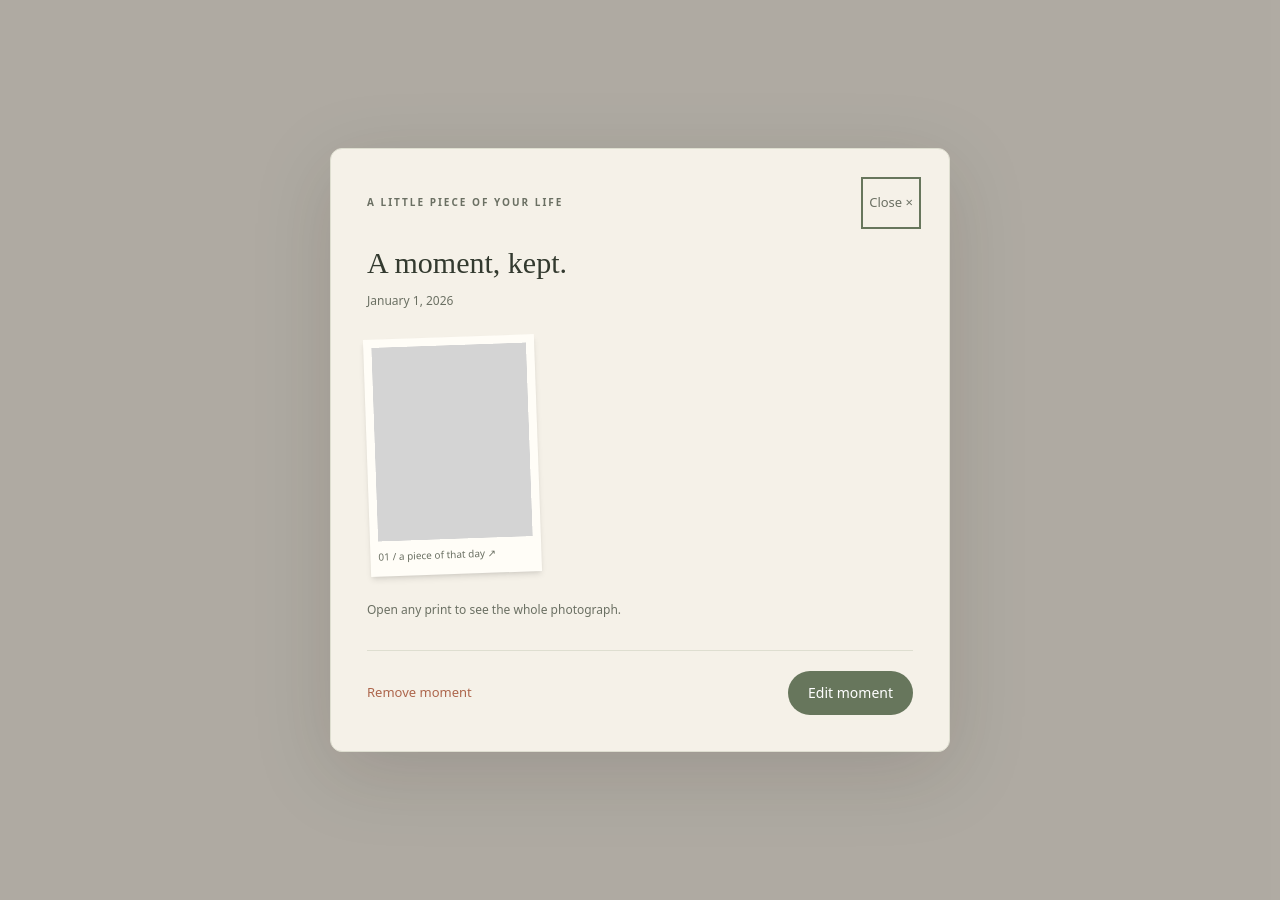
it: protects photo changes and refuses to save an emptied photo-only moment
Click the button "Edit moment". click: (850, 693)
box: [788,671,913,715]
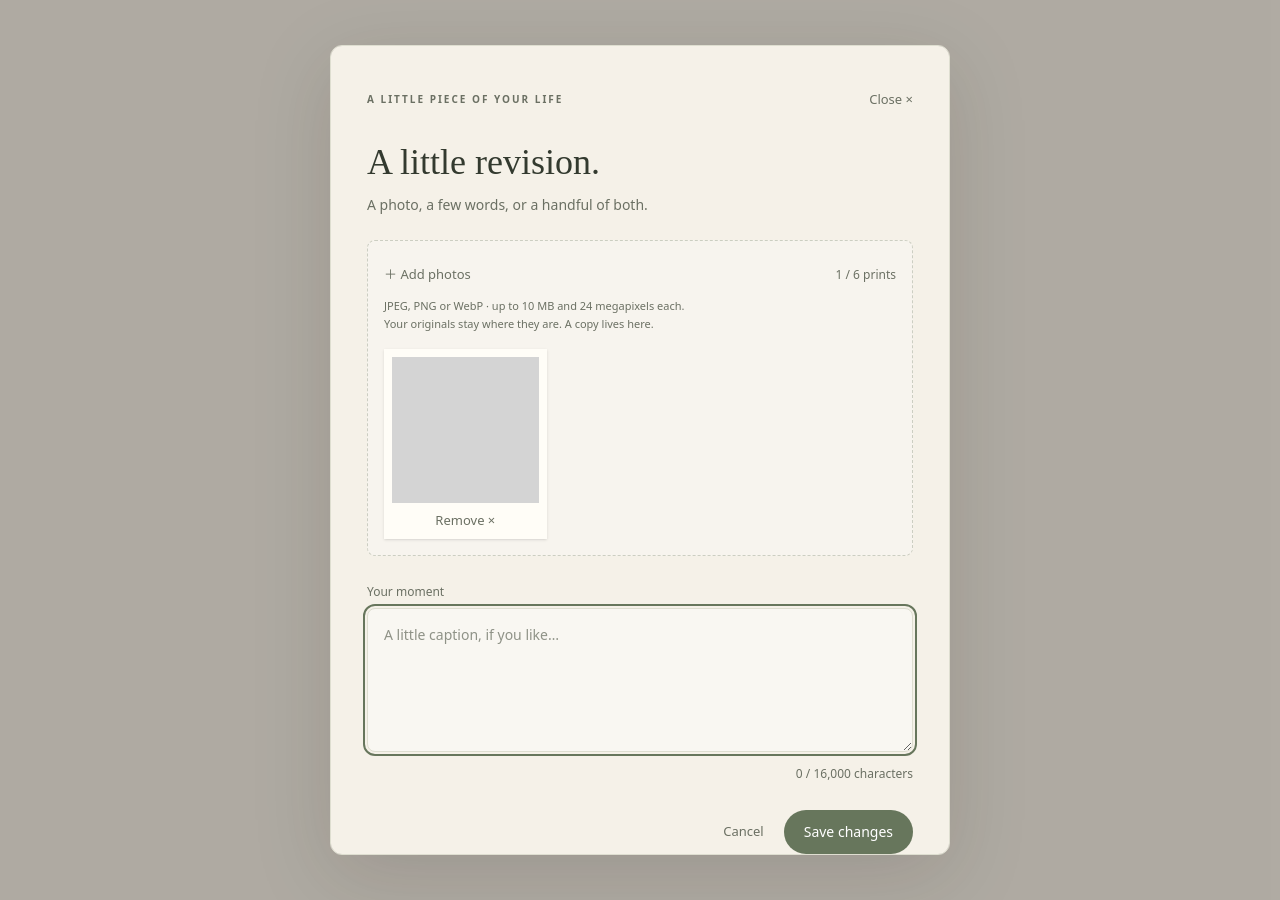
Click the button with aria-label "Remove kept photo 1". click: (465, 521)
box: [392,503,539,539]
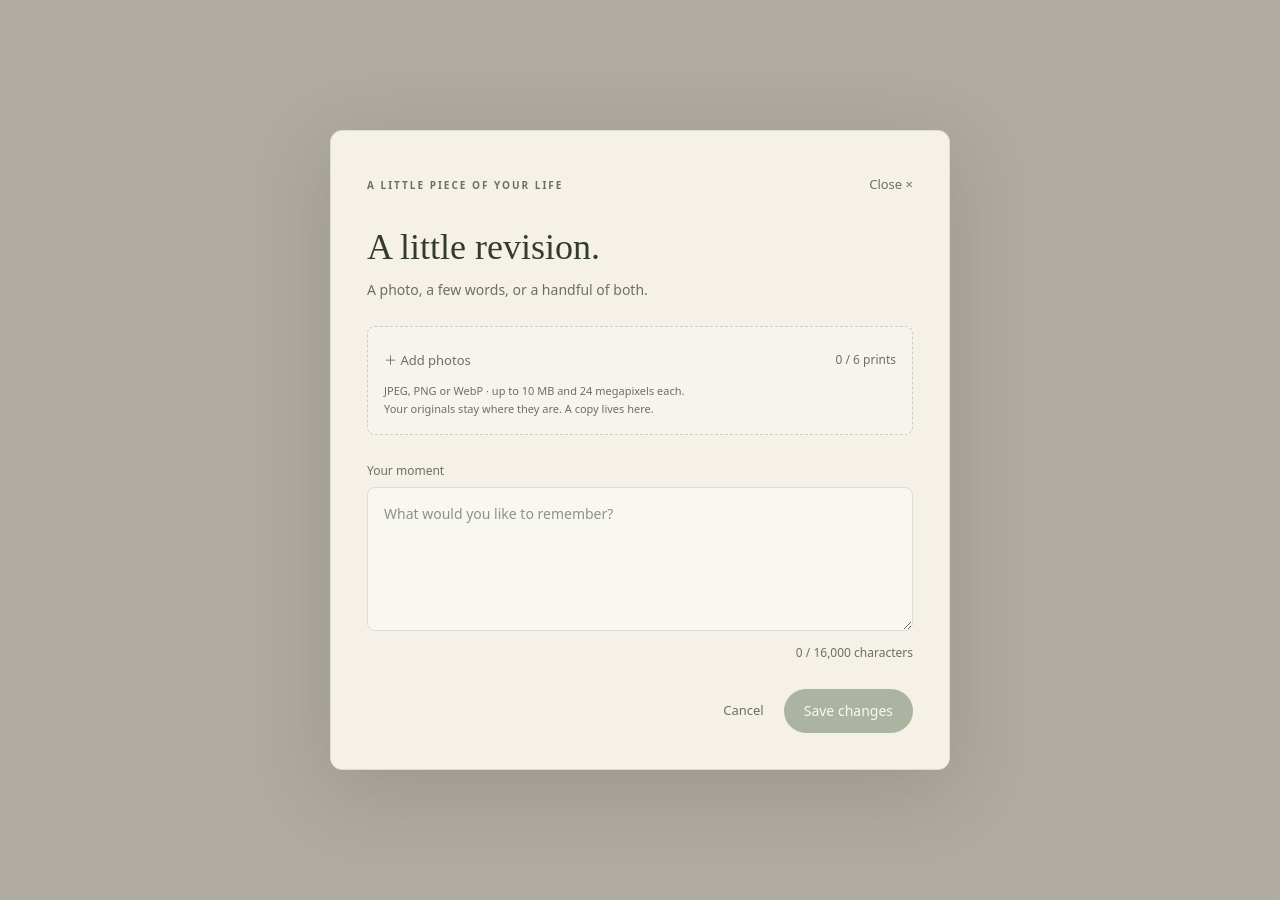
Check: the button "Save changes" is disabled, box [784,689,913,733]
Click the button "Cancel". click: (743, 711)
box: [723,693,764,728]
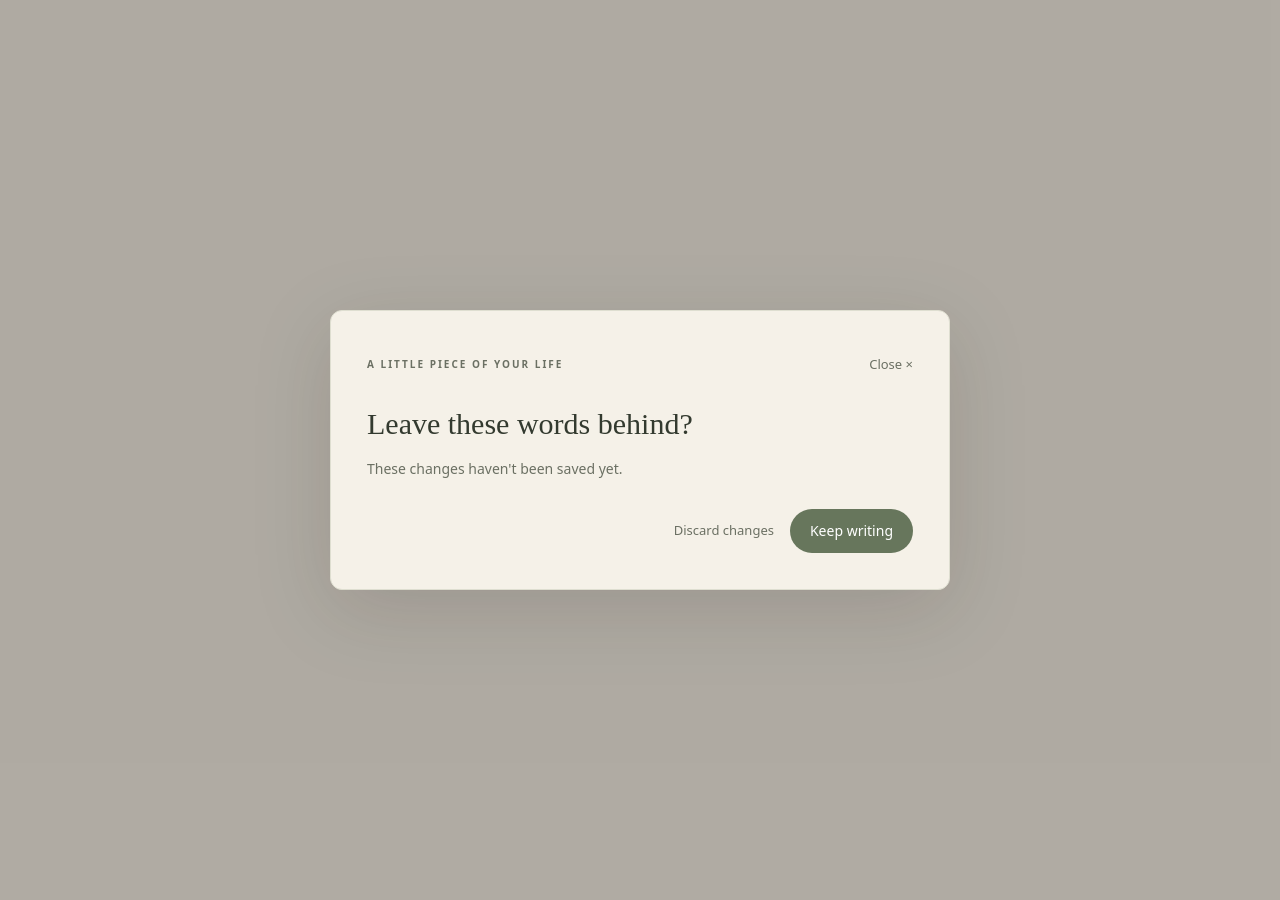
Check: the button "Discard changes" is shown, box [674,509,774,553]
